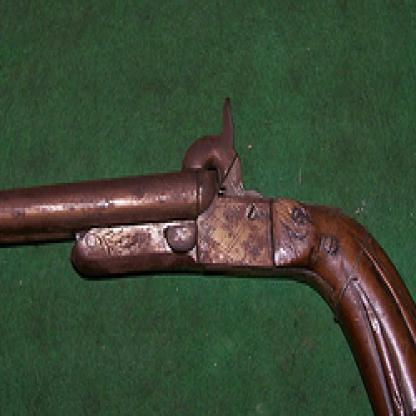gun: (0, 85, 415, 414)
